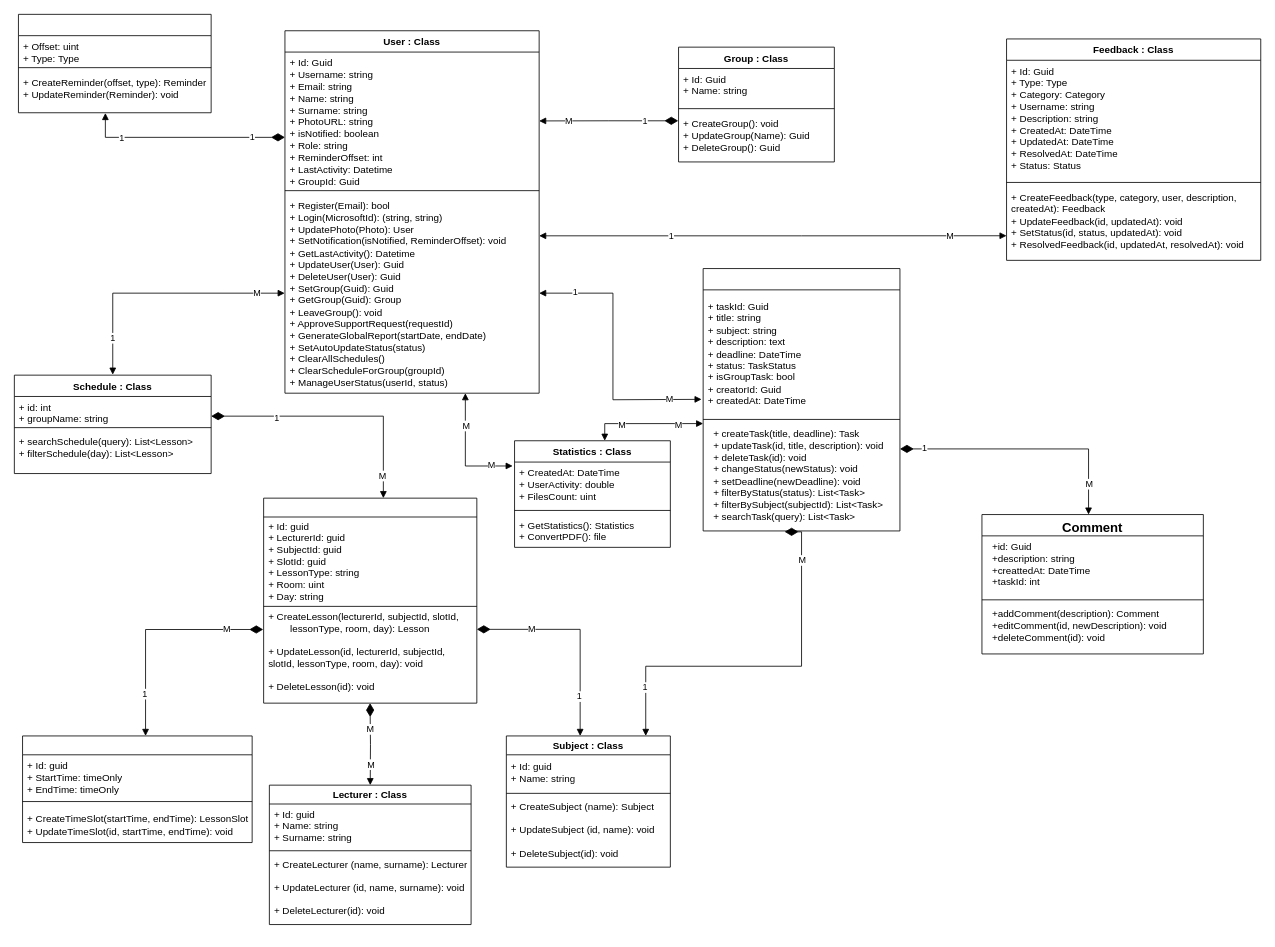
This 1275x947 diagram has some shape labels left out. The shapes that lost their labels are listed below. From the top down, each one's box as (x1, y1, x2, y2) in pixels, then its label:
(18, 14, 211, 113): Reminder : Class
(702, 268, 900, 531): Task : Class
(263, 497, 477, 703): Lesson : Class
(22, 735, 252, 843): LessonSlot : Class
